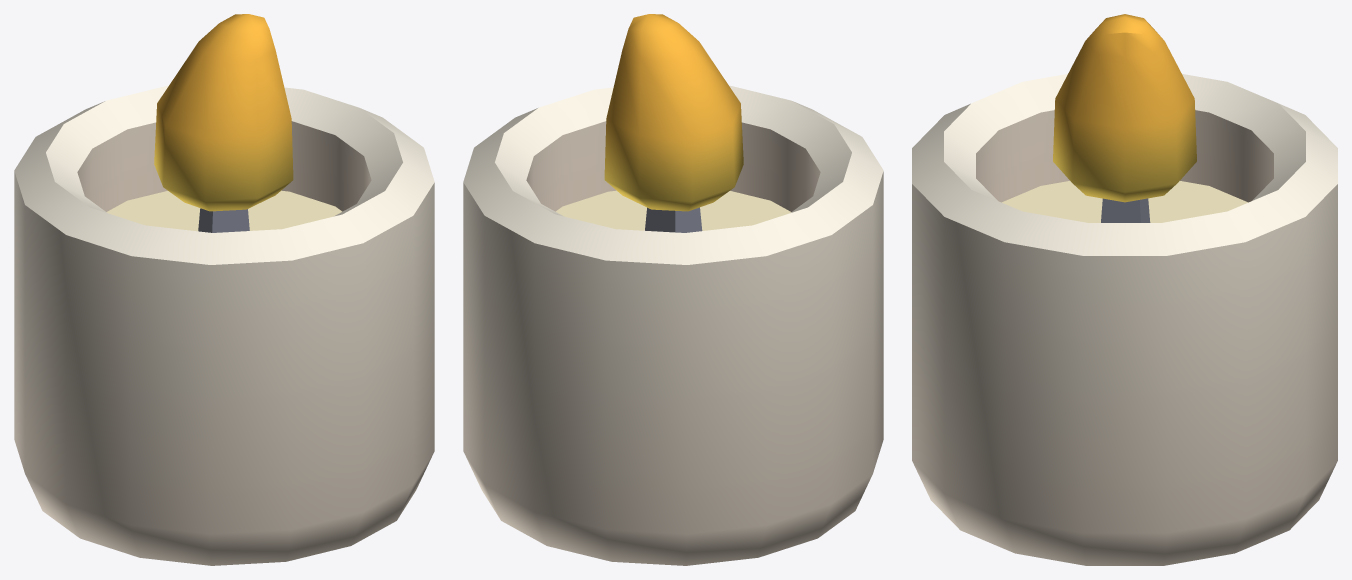
File: candle.fbx
The picture shows the model from 3 angles, left to right: view 1: azimuth 30°, elevation 25°; view 2: azimuth 150°, elevation 25°; view 3: azimuth 270°, elevation 25°; orthographic projection. The views are drawn at different scales.
Parts seen in each view (by area): view 1: candle; view 2: candle; view 3: candle.
Boxes of the visible parts, x1=… form: candle: x1=14, y1=14, x2=434, y2=565; candle: x1=463, y1=14, x2=883, y2=565; candle: x1=912, y1=14, x2=1337, y2=565.
Size of the model in its own units: 0.288 by 0.3702 by 0.288.
